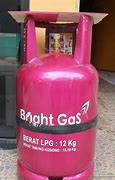bright_gas: (16, 12, 99, 180)
